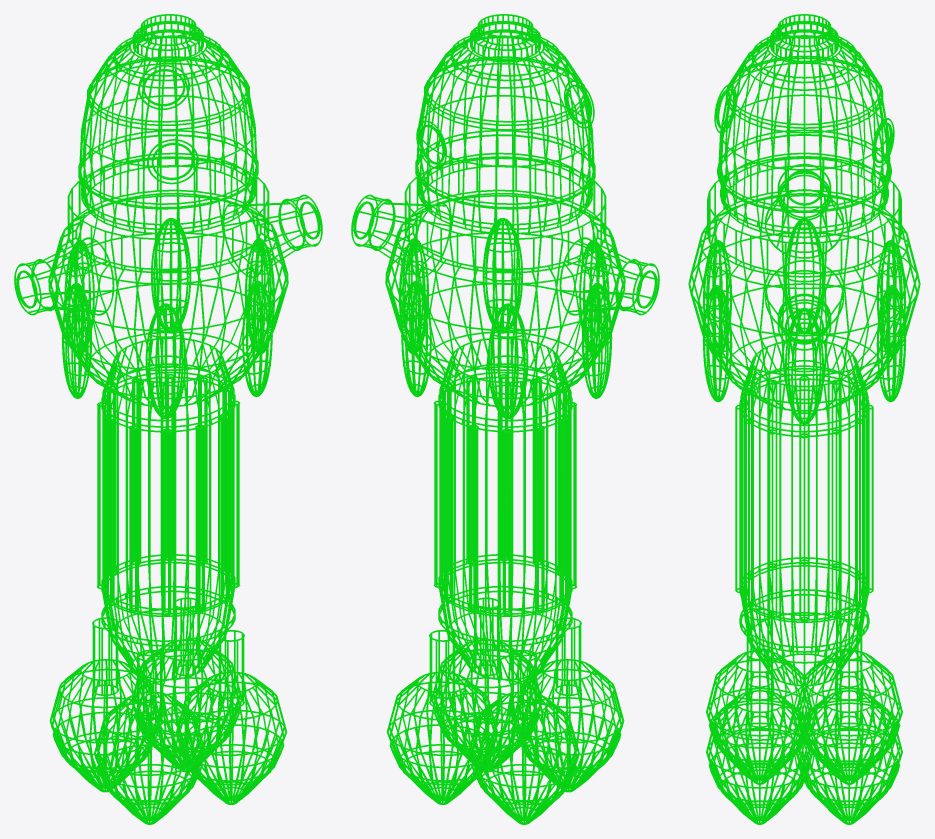
The model's file is mk2-mine-wireframe.glb.
The picture shows the model from 3 angles, left to right: view 1: azimuth 30°, elevation 25°; view 2: azimuth 150°, elevation 25°; view 3: azimuth 270°, elevation 25°; orthographic projection.
Parts seen in each view (by area): view 1: chassis technical wire, drill-assemblies technical wire, slurry-recovery-ports technical wire, coolant-connectors technical wire; view 2: chassis technical wire, drill-assemblies technical wire, slurry-recovery-ports technical wire, coolant-connectors technical wire; view 3: chassis technical wire, drill-assemblies technical wire, slurry-recovery-ports technical wire, coolant-connectors technical wire.
Boxes of the visible parts, x1,y1,x2,y2 form: chassis technical wire: (48, 14, 288, 728); drill-assemblies technical wire: (49, 639, 287, 824); slurry-recovery-ports technical wire: (14, 194, 322, 315); coolant-connectors technical wire: (138, 65, 198, 184); chassis technical wire: (385, 14, 625, 728); drill-assemblies technical wire: (386, 639, 624, 824); slurry-recovery-ports technical wire: (351, 194, 659, 315); coolant-connectors technical wire: (416, 80, 594, 168); chassis technical wire: (688, 14, 920, 727); drill-assemblies technical wire: (706, 650, 902, 824); slurry-recovery-ports technical wire: (764, 163, 844, 350); coolant-connectors technical wire: (714, 84, 894, 167).
Bounding box in the file's own units: 1.79 × 4.62 × 1.25.
